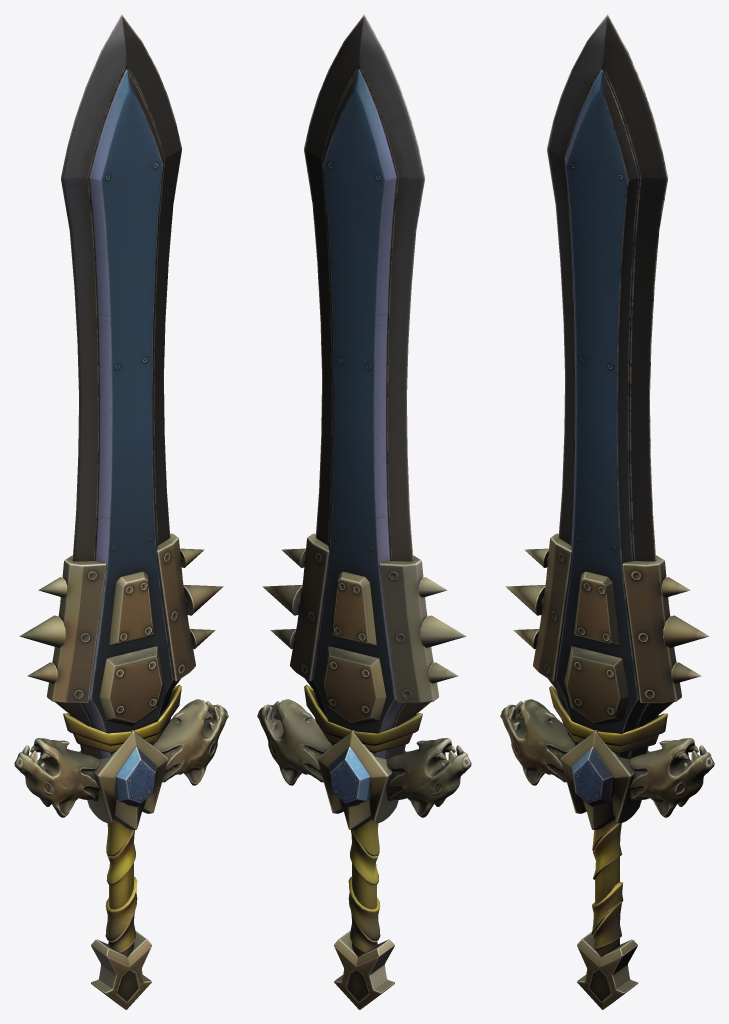
File: sm_sword_12.gltf
The picture shows the model from 3 angles, left to right: view 1: azimuth 30°, elevation 25°; view 2: azimuth 150°, elevation 25°; view 3: azimuth 330°, elevation 25°; orthographic projection.
Visible parts, largest first — view 1: SM_Sword_12; view 2: SM_Sword_12; view 3: SM_Sword_12.
Part boxes in pixels (x1,y1,x2,y2): SM_Sword_12: (14,14,228,1009); SM_Sword_12: (257,14,471,1009); SM_Sword_12: (500,14,714,1009).
Size of the model in its own units: 0.3362 by 1.51 by 0.1067.
Materials: 1 (1 with a texture image).
